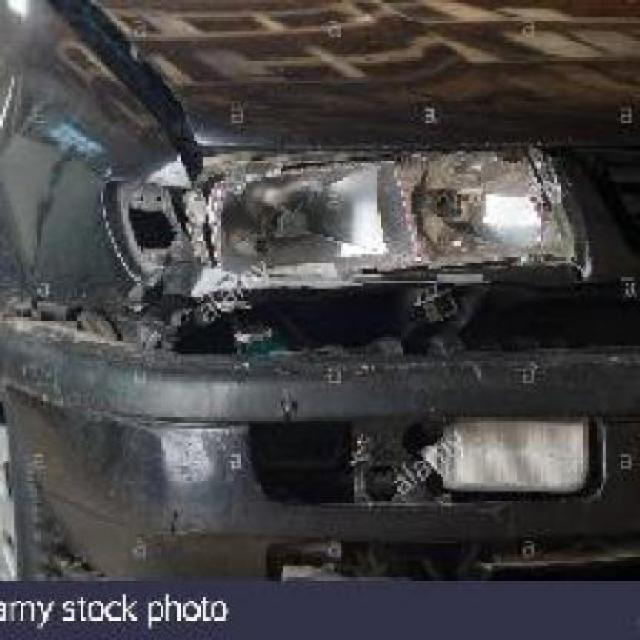damaged-front-bumper: (8, 311, 638, 584)
damaged-head-light: (113, 142, 629, 287)
